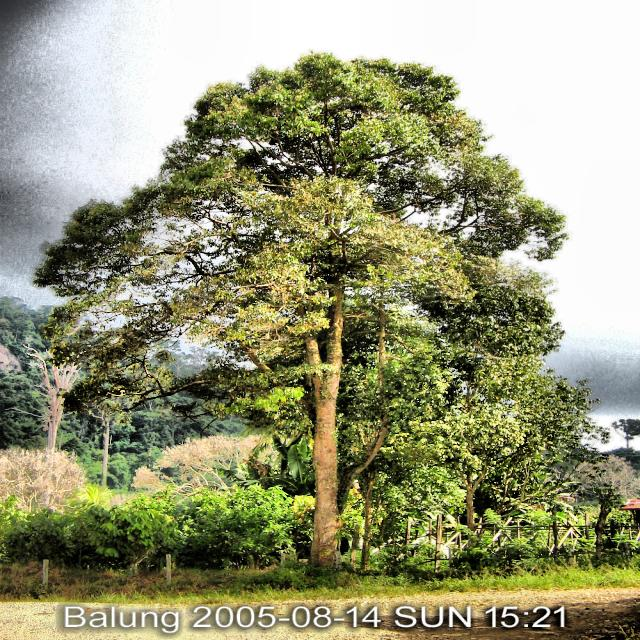arvore: (288, 241, 361, 592)
